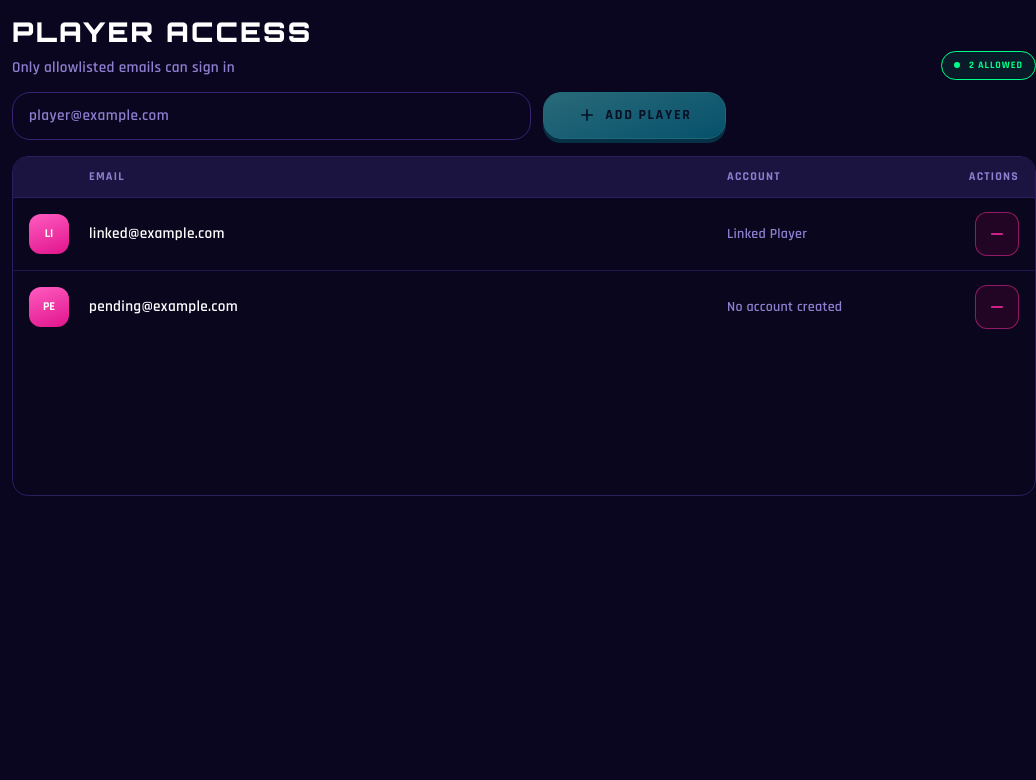
Scenario: PlayerAccessPanel › shows an API error when removing a player fails
Click the button named "remove linked@example.com": (997,234) left=975, top=212, right=1019, bottom=256
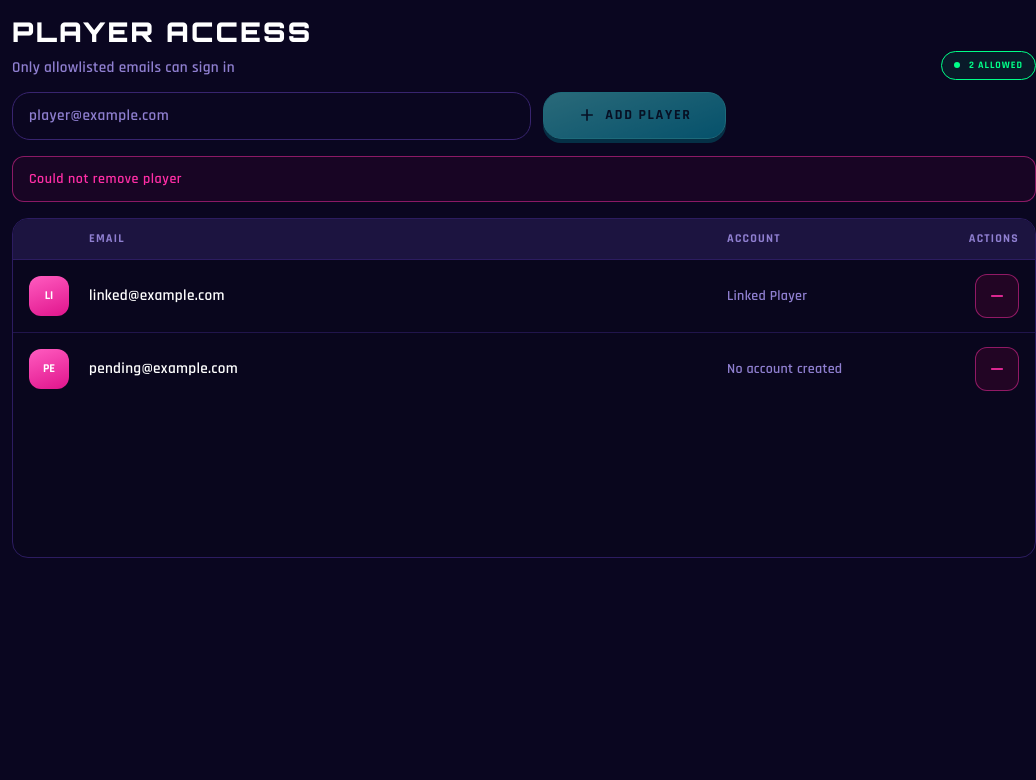
expect the text "Could not remove player" is shown: met, box left=12, top=156, right=1035, bottom=202
